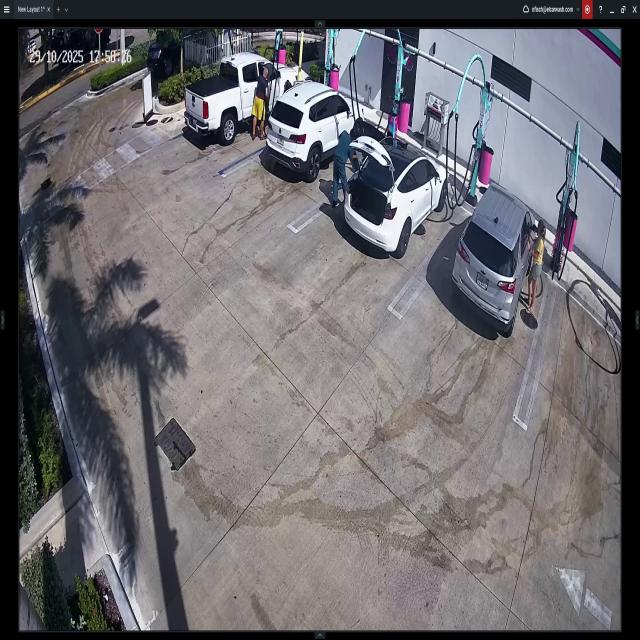Car: (343, 136, 447, 253), (454, 188, 534, 334), (182, 53, 297, 144), (266, 83, 364, 184), (145, 31, 182, 77)
